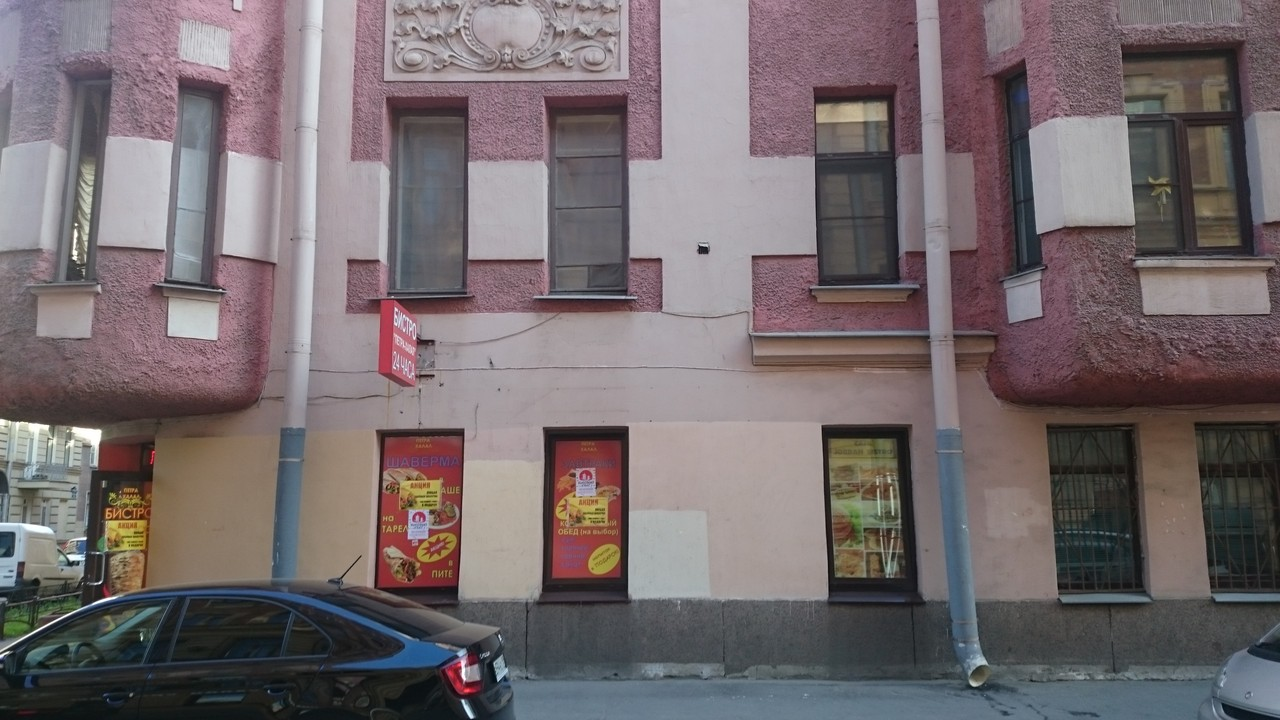cantilever: (376, 296, 431, 391)
window: (1120, 47, 1255, 254), (1048, 423, 1147, 599), (818, 92, 892, 289), (547, 106, 626, 290), (394, 106, 470, 295), (376, 431, 465, 592), (542, 431, 627, 592), (826, 427, 908, 592), (164, 87, 227, 282)
